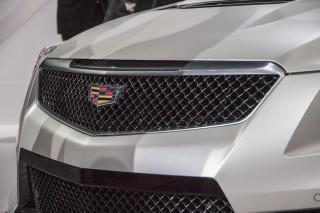cadillac: (82, 80, 132, 111)
